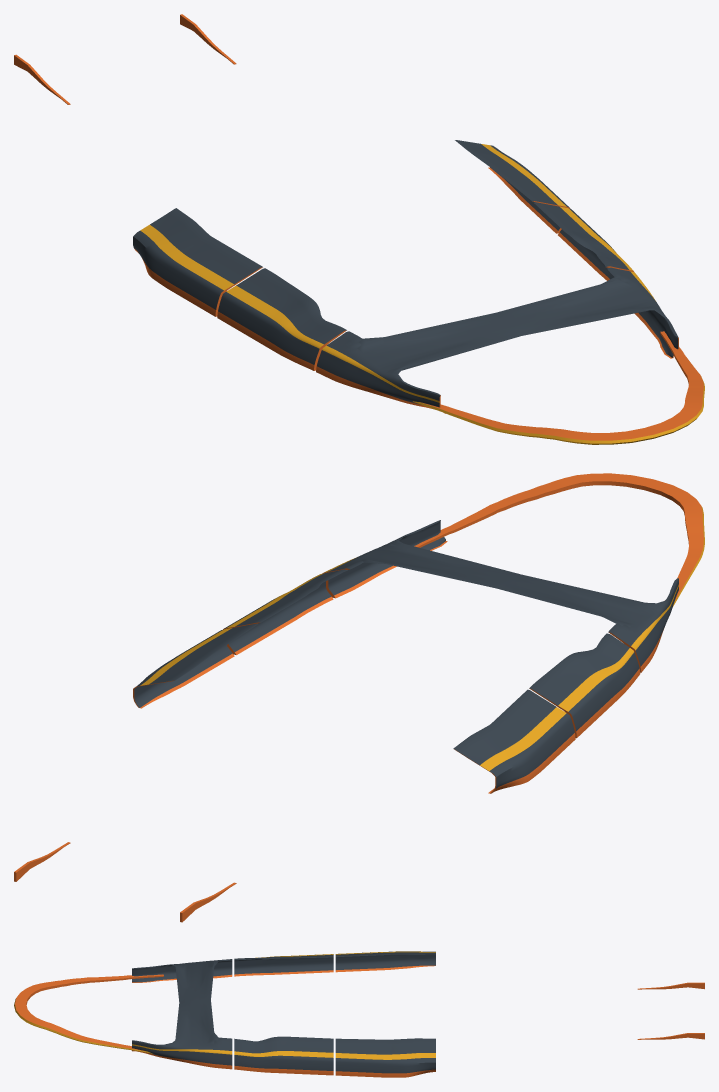
Rendered from bastion_armor_guard.fbx.
3 renders of one model, top to bottom at view 1: azimuth 30°, elevation 25°; view 2: azimuth 150°, elevation 25°; view 3: azimuth 270°, elevation 25°, orthographic. The views are drawn at different scales.
Visible parts, largest first — view 1: Armor_Guard; view 2: Armor_Guard; view 3: Armor_Guard.
Boxes of the visible parts, x1,y1,x2,y2 form: Armor_Guard: [14, 14, 704, 444]; Armor_Guard: [14, 473, 704, 922]; Armor_Guard: [14, 951, 704, 1077].
Bounding box in the file's own units: 274 × 27.55 × 700.
